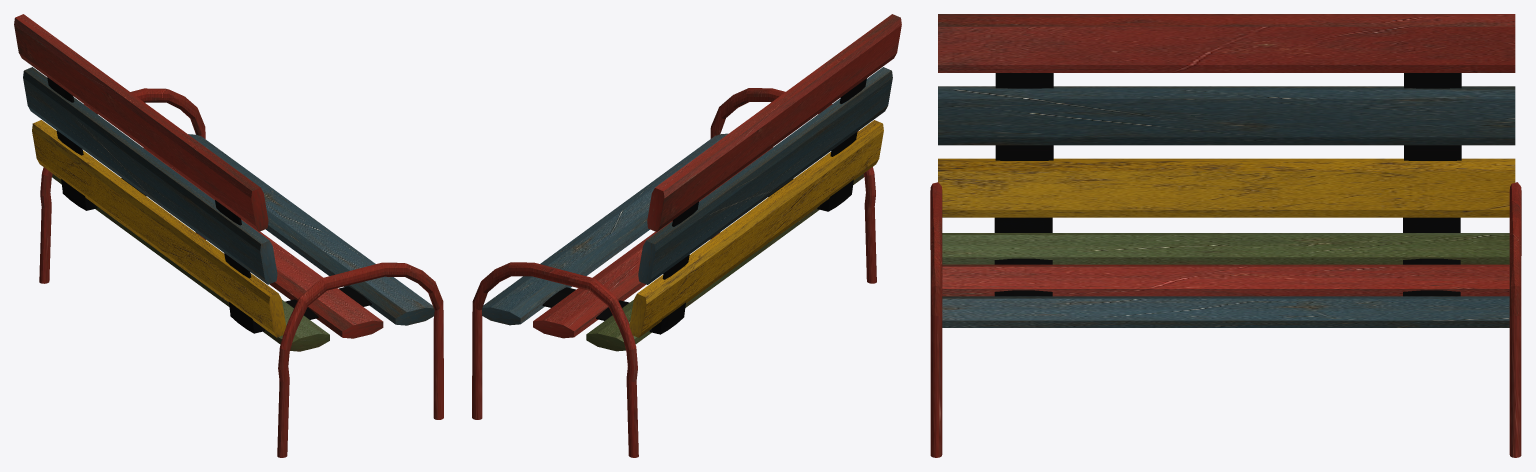
File: lowpoly_park_bench.glb
3 views of the same model, side by side, from view 1: azimuth 30°, elevation 25°; view 2: azimuth 150°, elevation 25°; view 3: azimuth 270°, elevation 25° (orthographic). The views are drawn at different scales.
Visible parts, largest first — view 1: Park_Bench; view 2: Park_Bench; view 3: Park_Bench.
Boxes of the visible parts, <box> form: Park_Bench: <box>14,14,443,457</box>; Park_Bench: <box>472,14,901,457</box>; Park_Bench: <box>930,14,1521,457</box>.
Size of the model in its own units: 0.4663 by 0.6356 by 1.02.
1 material, 1 textured.
